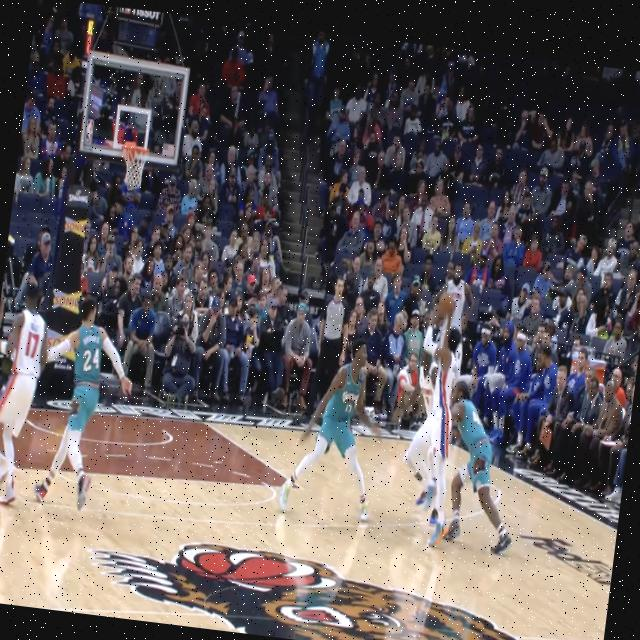no foul: (392, 284, 522, 568)
